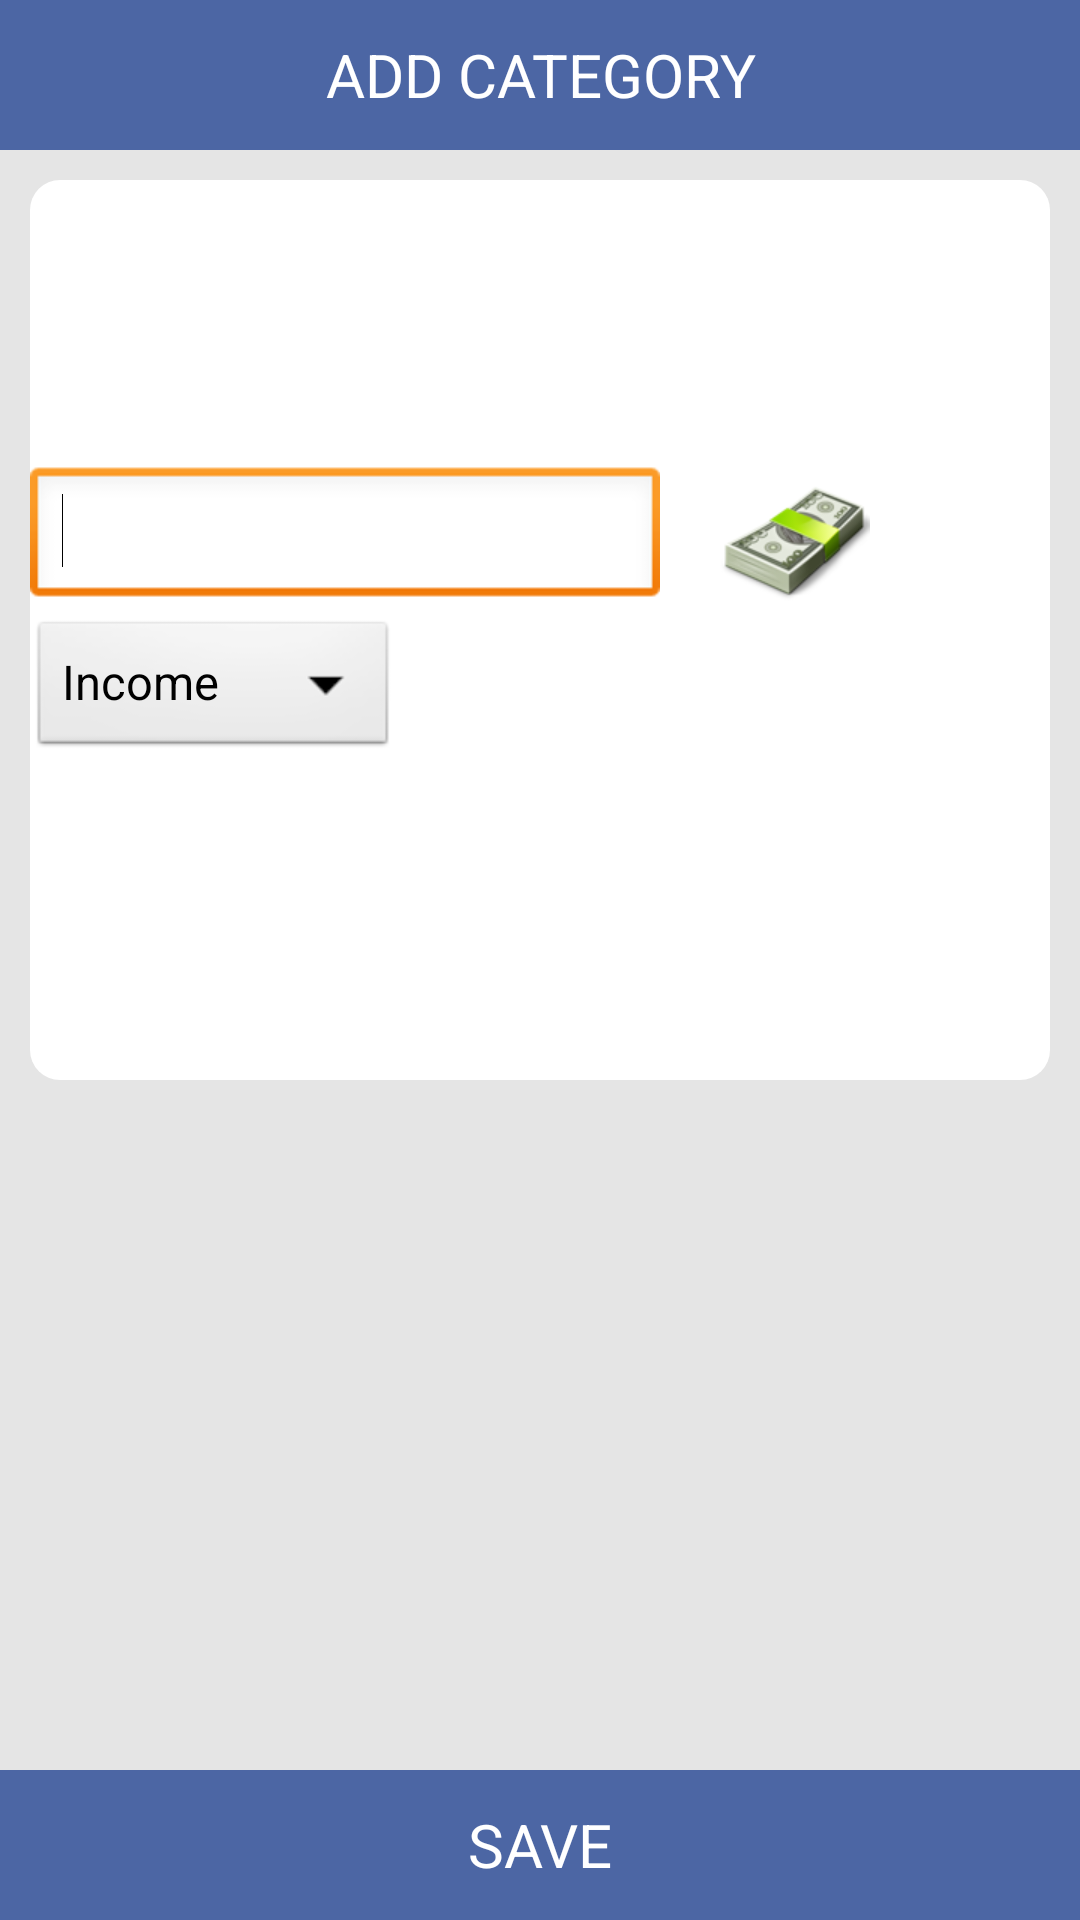

Icons on this 1080px×1920px Android screen, each with its box as bbox=[x1, y1, x2, y2]:
cash: bbox=[724, 488, 870, 596]
